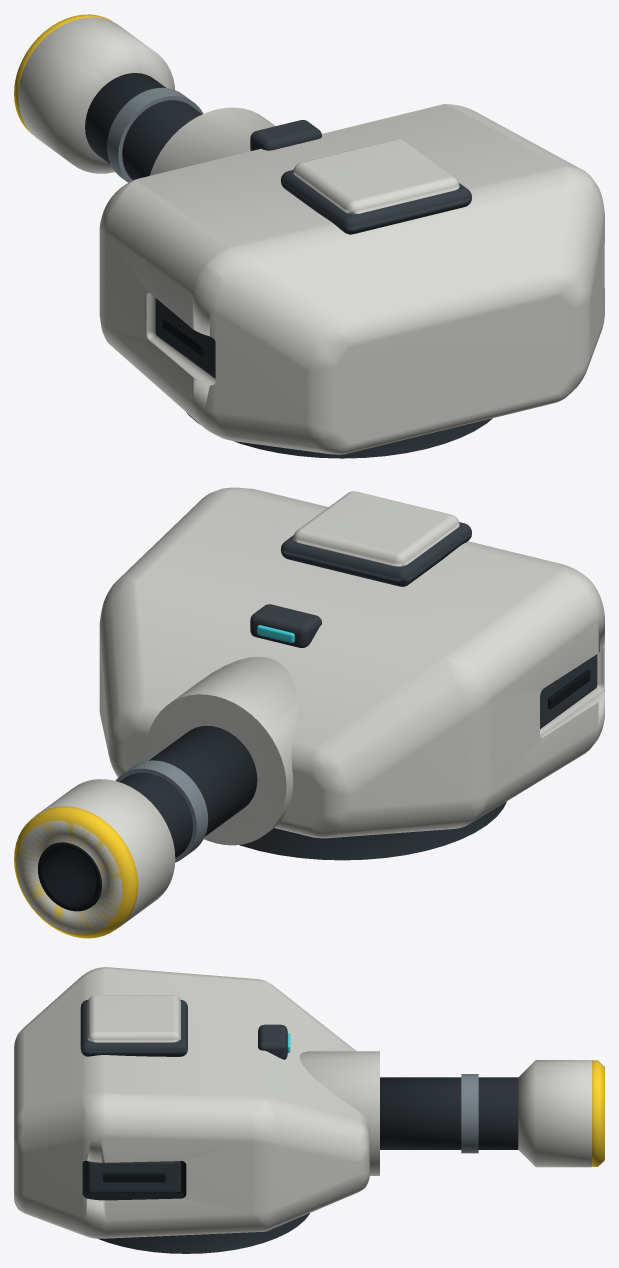
The model's file is cannon.glb.
3 views of the same model, one above another, from view 1: azimuth 30°, elevation 25°; view 2: azimuth 150°, elevation 25°; view 3: azimuth 270°, elevation 25° (orthographic). The views are drawn at different scales.
Visible parts, largest first — view 1: Soft_133 ivory armor, Soft_133 ivory armor.001, Soft_133 mechanism, Soft_133 mechanism.001, Soft_133 steel, Soft_133 yellow; view 2: Soft_133 ivory armor, Soft_133 ivory armor.001, Soft_133 mechanism, Soft_133 mechanism.001, Soft_133 yellow, Soft_133 recess.001, Soft_133 steel; view 3: Soft_133 ivory armor, Soft_133 ivory armor.001, Soft_133 mechanism.001, Soft_133 mechanism, Soft_133 steel, Soft_133 yellow, Soft_133 recess.
Boxes of the visible parts, x1,y1,x2,y2 form: Soft_133 ivory armor: (99,104,604,454); Soft_133 ivory armor.001: (18,17,275,175); Soft_133 mechanism: (155,120,492,458); Soft_133 mechanism.001: (85,73,202,180); Soft_133 steel: (107,87,203,182); Soft_133 yellow: (14,14,112,134); Soft_133 ivory armor: (99,487,604,838); Soft_133 ivory armor.001: (17,656,297,933); Soft_133 mechanism: (239,522,597,860); Soft_133 mechanism.001: (119,725,257,857); Soft_133 yellow: (14,806,138,938); Soft_133 recess.001: (38,842,101,911); Soft_133 steel: (115,760,208,862); Soft_133 ivory armor: (14,967,369,1238); Soft_133 ivory armor.001: (299,1051,591,1175); Soft_133 mechanism.001: (380,1077,518,1149); Soft_133 mechanism: (80,999,309,1253); Soft_133 steel: (461,1074,478,1153); Soft_133 yellow: (592,1060,604,1166); Soft_133 recess: (103,1173,165,1182).
Size of the model in its own units: 1.04 by 0.594 by 1.71.
